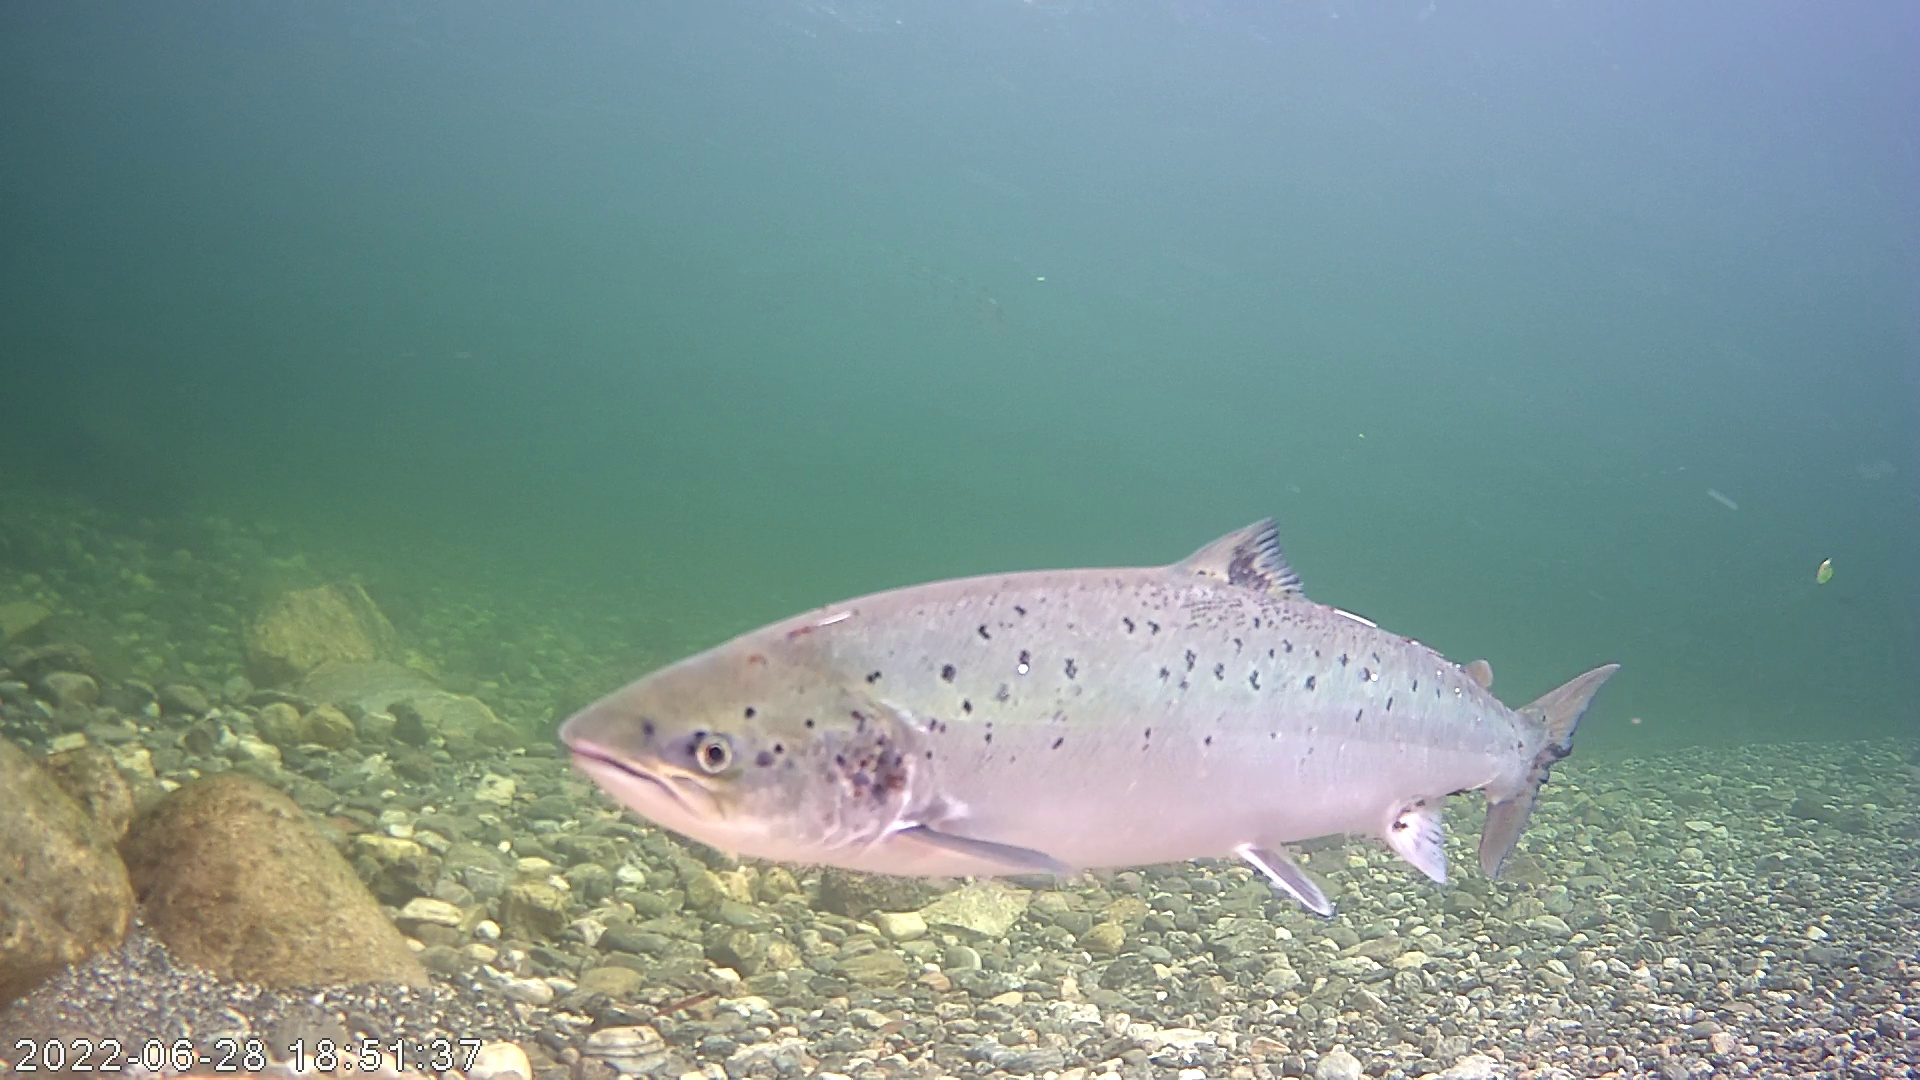salmon: (541, 448, 1629, 897)
